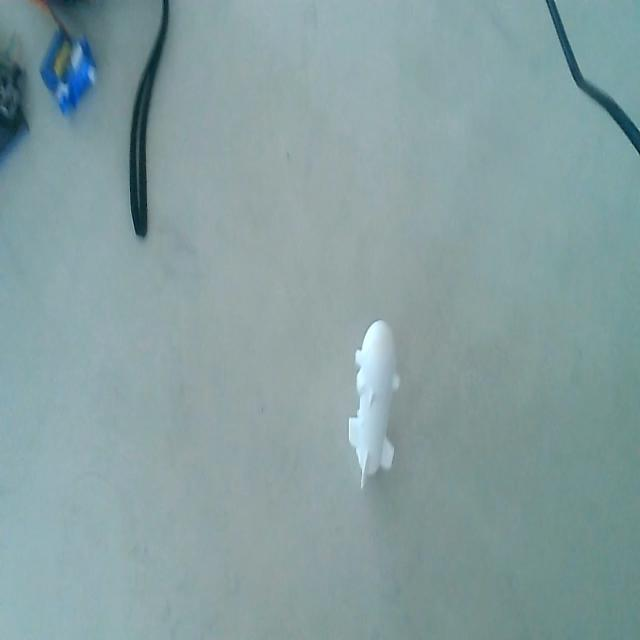Rocket: (344, 315, 402, 497)
